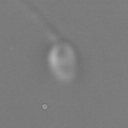normal: (17, 1, 63, 40)
